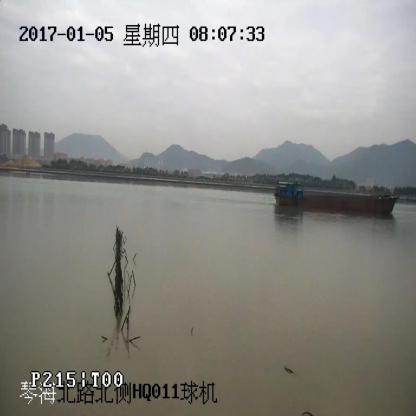Bulk Carrier: (273, 181, 397, 216)
